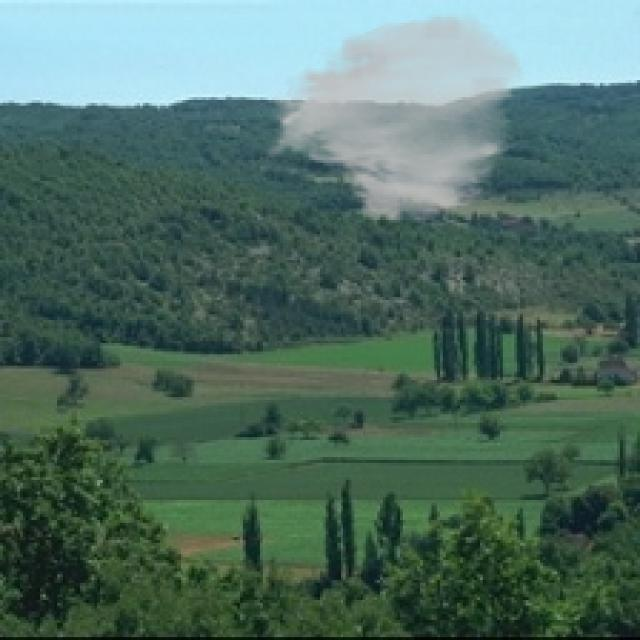smoke: (260, 11, 529, 226)
